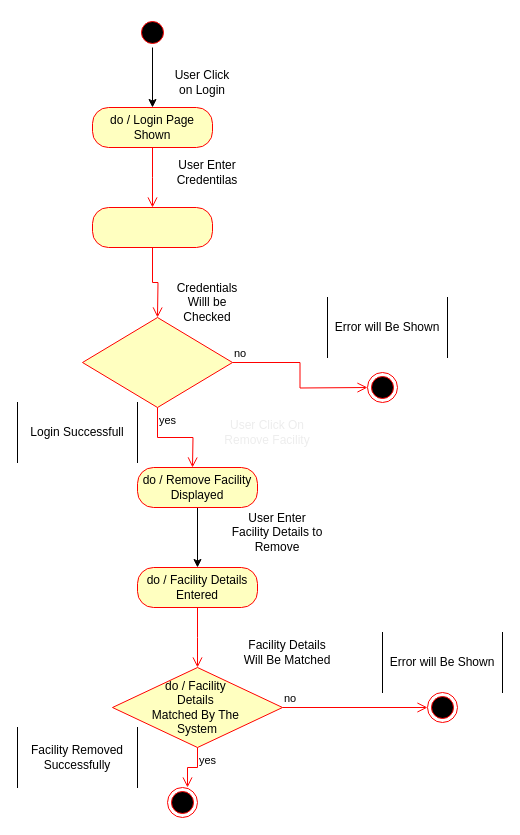
The diagram is 520 pixels wide and 835 high, and some of its shapes have lost their labels. The box of each missing label's shape, as (x1, y1, x2, y2) in pixels:
do / Credentials Checked By the System: (82, 316, 232, 408)
do / User Credentials Entered: (92, 206, 212, 248)
